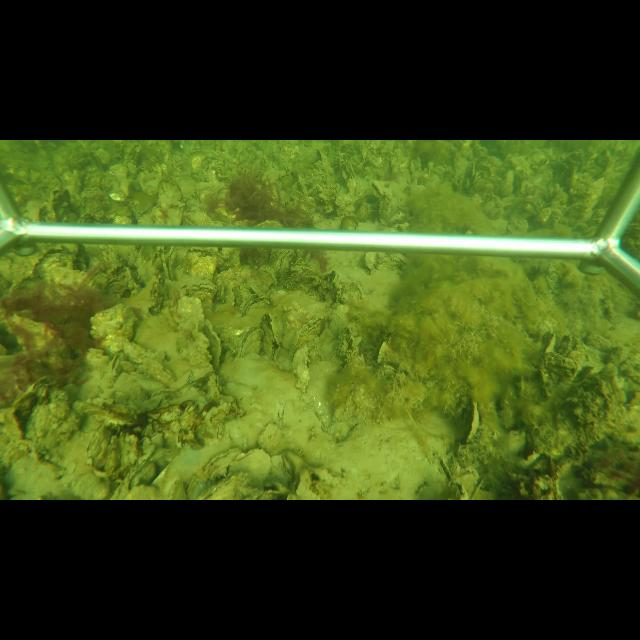Oyster-Closed: (109, 442, 156, 498), (229, 448, 271, 485), (291, 314, 328, 349), (204, 447, 239, 480), (292, 344, 315, 392), (202, 320, 222, 371), (238, 325, 263, 359), (240, 295, 271, 317)
Oyster-Open: (458, 400, 481, 446), (107, 348, 125, 387), (264, 312, 281, 345), (162, 247, 177, 280)
